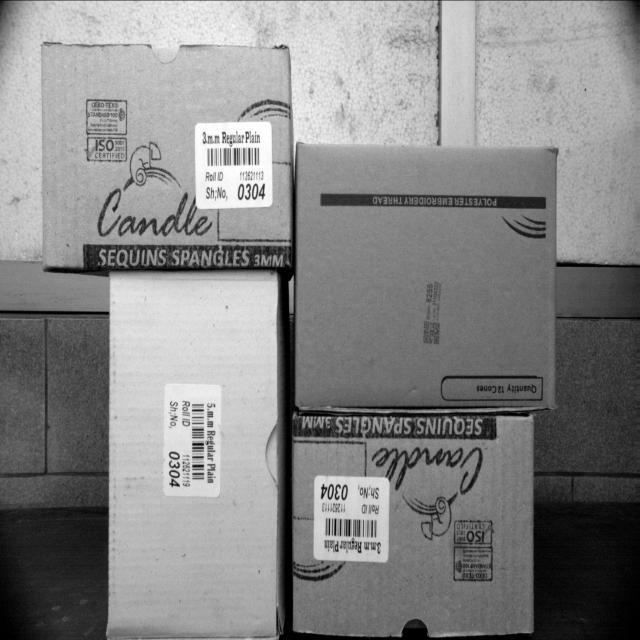box: (296, 134, 562, 410), (106, 272, 281, 639), (46, 35, 294, 274), (292, 410, 534, 640)
